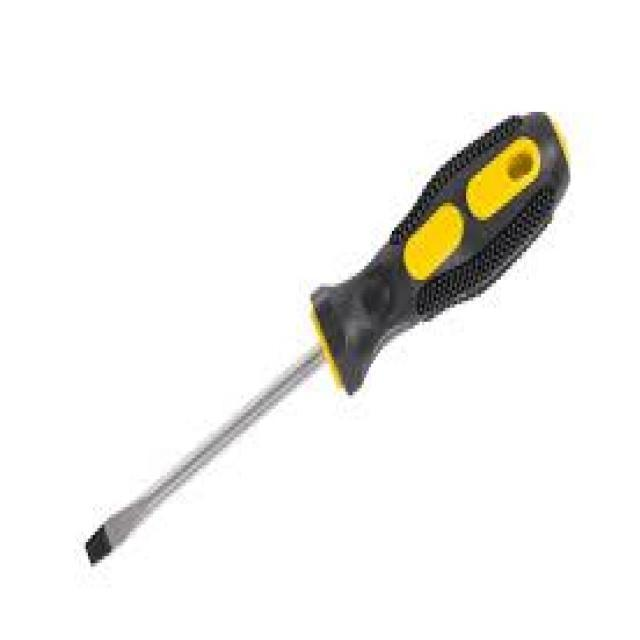screwdriver: (85, 88, 579, 584)
